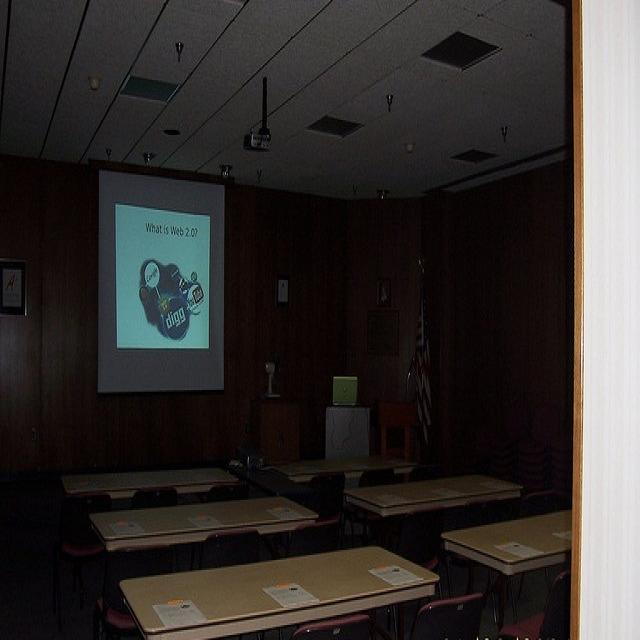Table: (113, 554, 441, 640), (439, 514, 584, 603), (90, 494, 323, 546), (64, 435, 233, 502), (334, 472, 525, 518)
